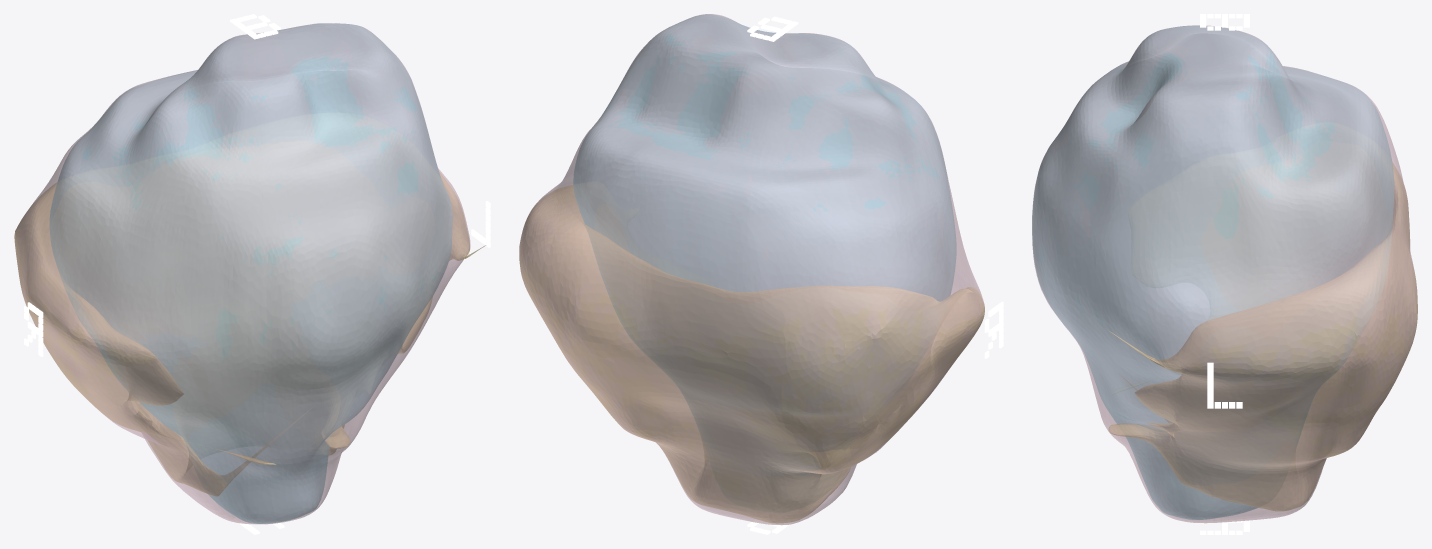
3 views of the same model, side by side, from view 1: azimuth 30°, elevation 25°; view 2: azimuth 150°, elevation 25°; view 3: azimuth 270°, elevation 25° (orthographic).
Visible parts, largest first — view 1: prostate_gland, transition_zone, peripheral_zone, pv_ar_marker_B, pv_ar_marker_R; view 2: prostate_gland, transition_zone, peripheral_zone, pv_ar_marker_B, pv_ar_marker_R; view 3: prostate_gland, transition_zone, peripheral_zone, pv_ar_marker_B, pv_ar_marker_L, pv_ar_marker_A.
Part boxes in pixels (x1,y1,x2,y2): prostate_gland: (14, 23, 470, 524); transition_zone: (50, 23, 452, 523); peripheral_zone: (14, 172, 485, 496); pv_ar_marker_B: (230, 14, 280, 39); pv_ar_marker_R: (24, 302, 43, 356); prostate_gland: (519, 14, 984, 525); transition_zone: (573, 14, 956, 422); peripheral_zone: (519, 185, 984, 523); pv_ar_marker_B: (747, 16, 798, 41); pv_ar_marker_R: (984, 301, 1003, 358); prostate_gland: (1032, 25, 1417, 523); transition_zone: (1032, 26, 1393, 519); peripheral_zone: (1109, 162, 1417, 510); pv_ar_marker_B: (1200, 14, 1249, 30); pv_ar_marker_L: (1207, 362, 1242, 408); pv_ar_marker_A: (1200, 518, 1249, 534).
Bounding box in the file's own units: 0.0534 × 0.0565 × 0.0391.
